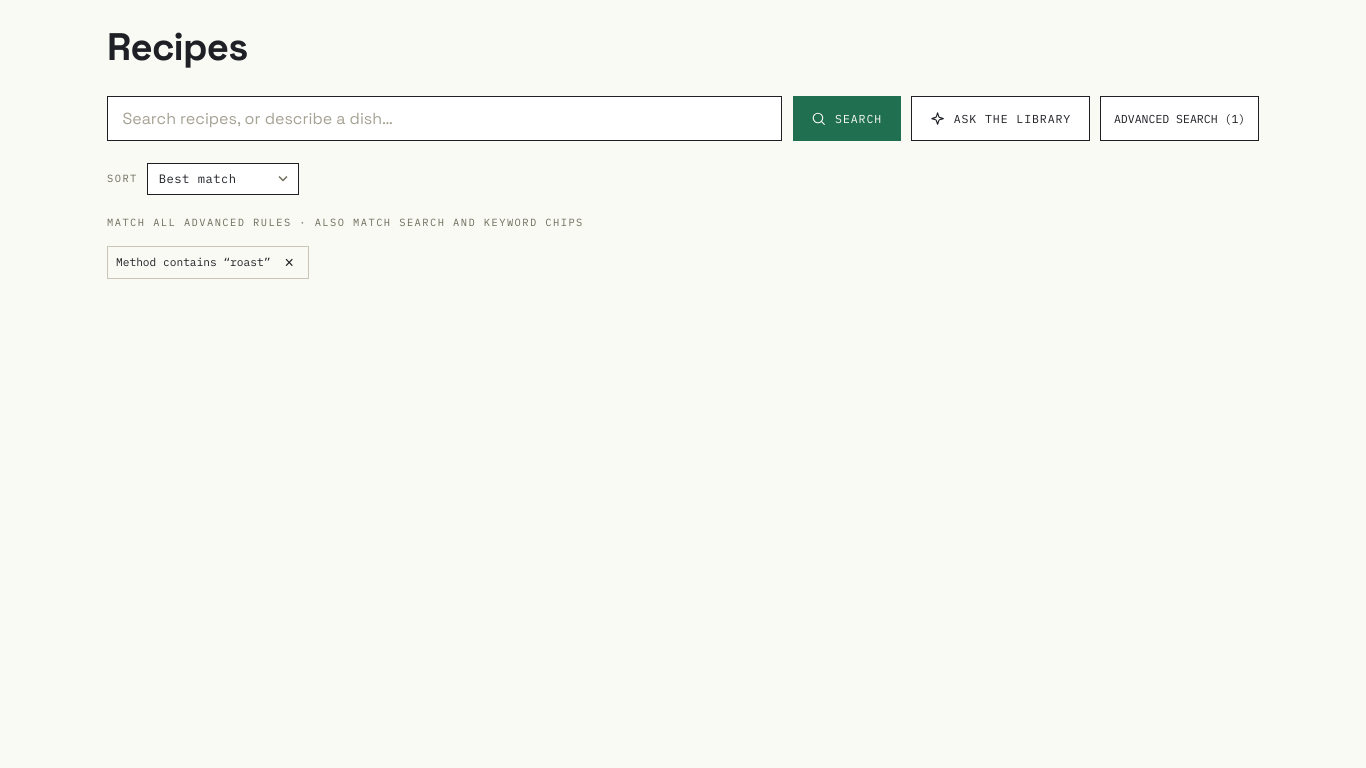
Test case: native dialog lifecycle › opens modally, discards a draft on backdrop dismissal, restores focus, and reopens
Click the button with class "advanced-trigger" at (1180, 118), box [1100, 96, 1259, 141]
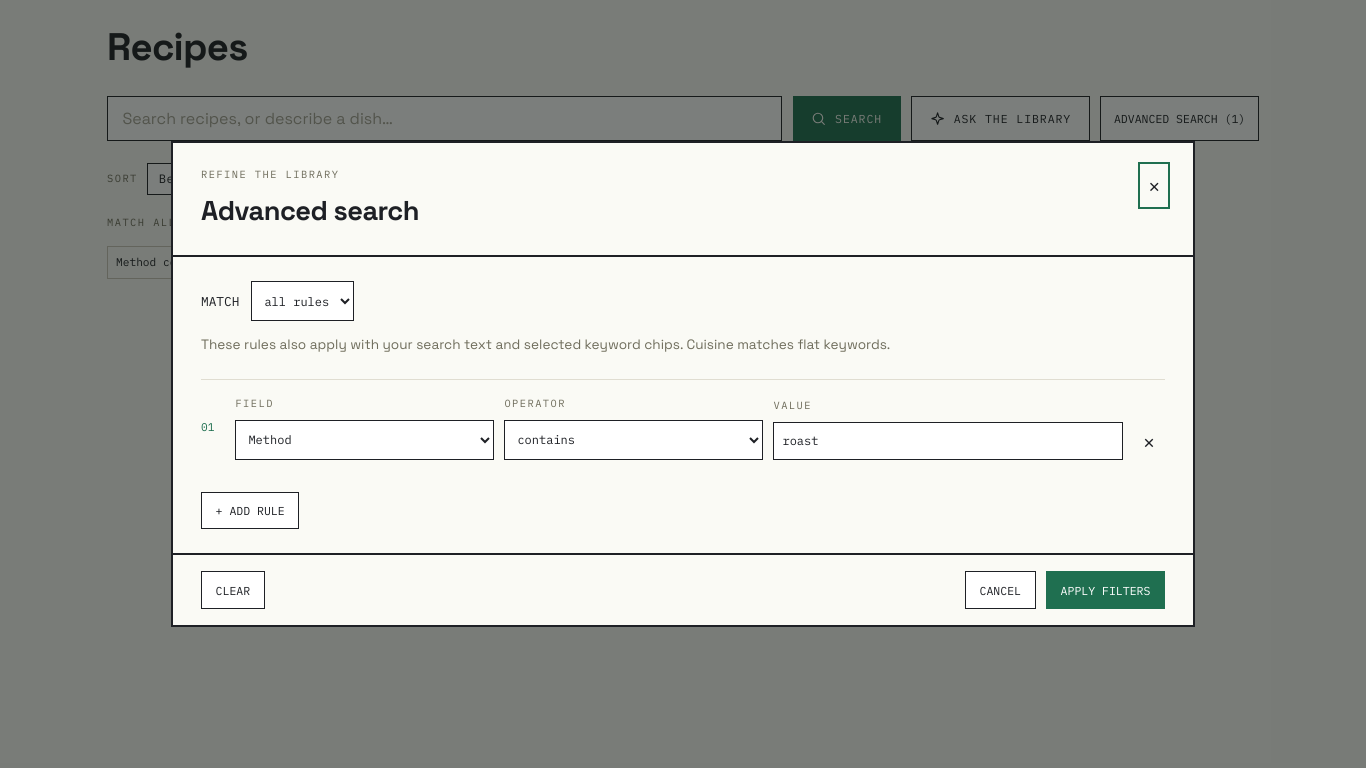
Replace the text in the field labelled "Value" with "braise" at (948, 441), box [773, 422, 1123, 460]
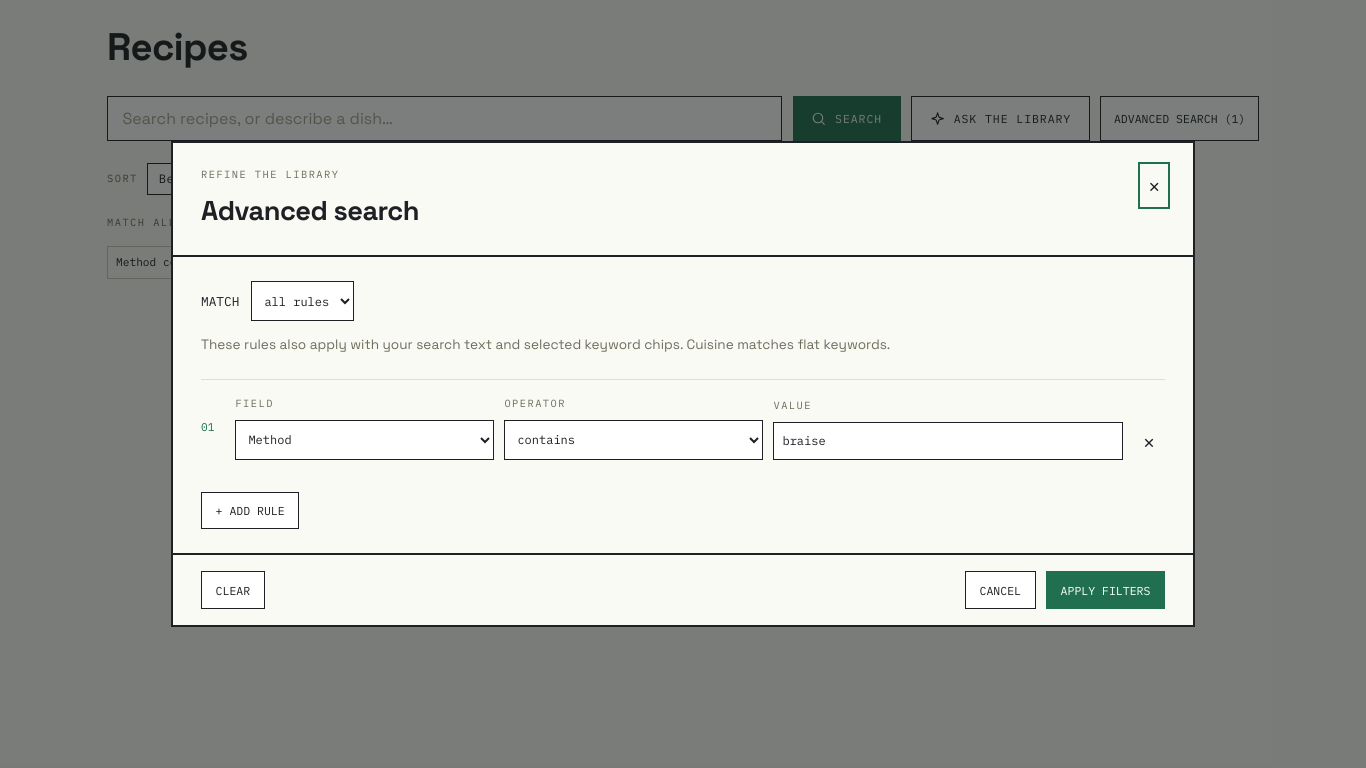
Click the dialog at (683, 384), box [171, 141, 1195, 627]
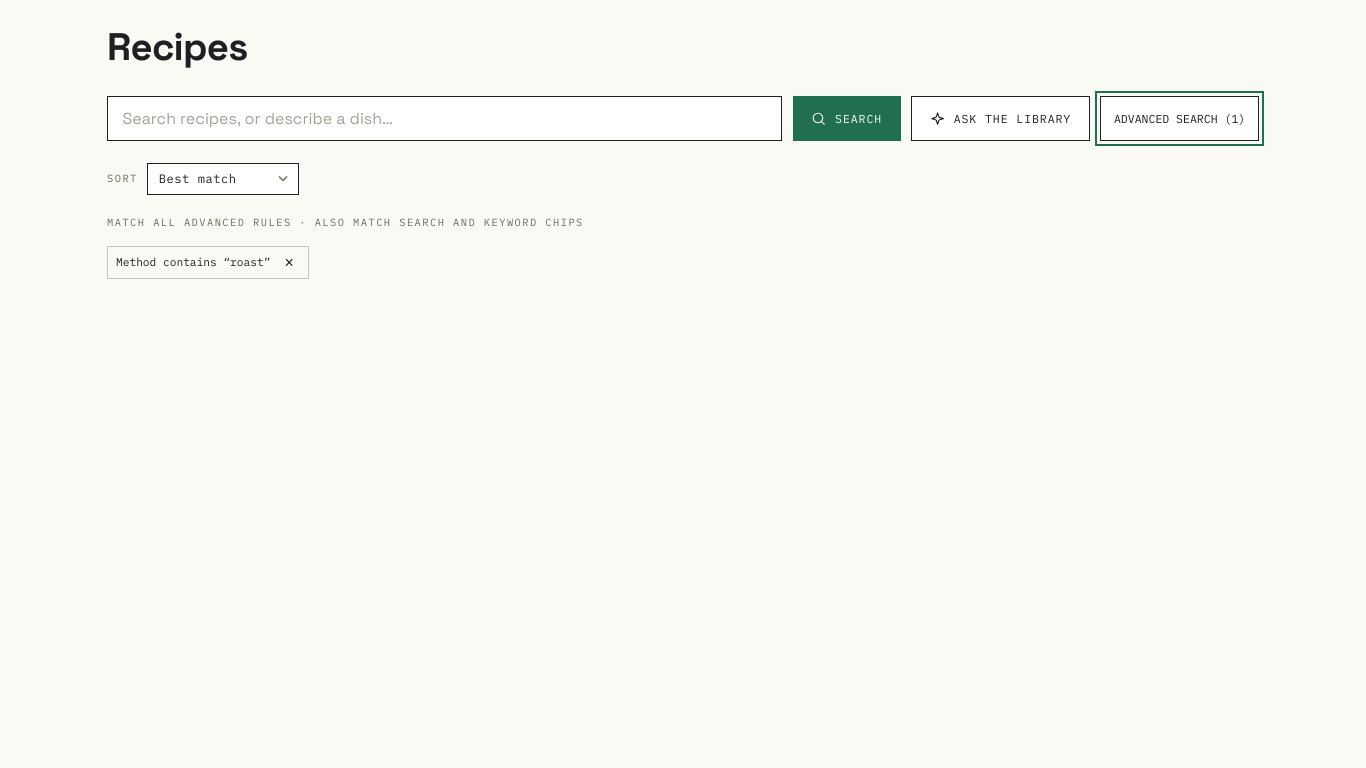
Now the dialog is gone
Click the button with class "advanced-trigger" at (1180, 118), box [1100, 96, 1259, 141]
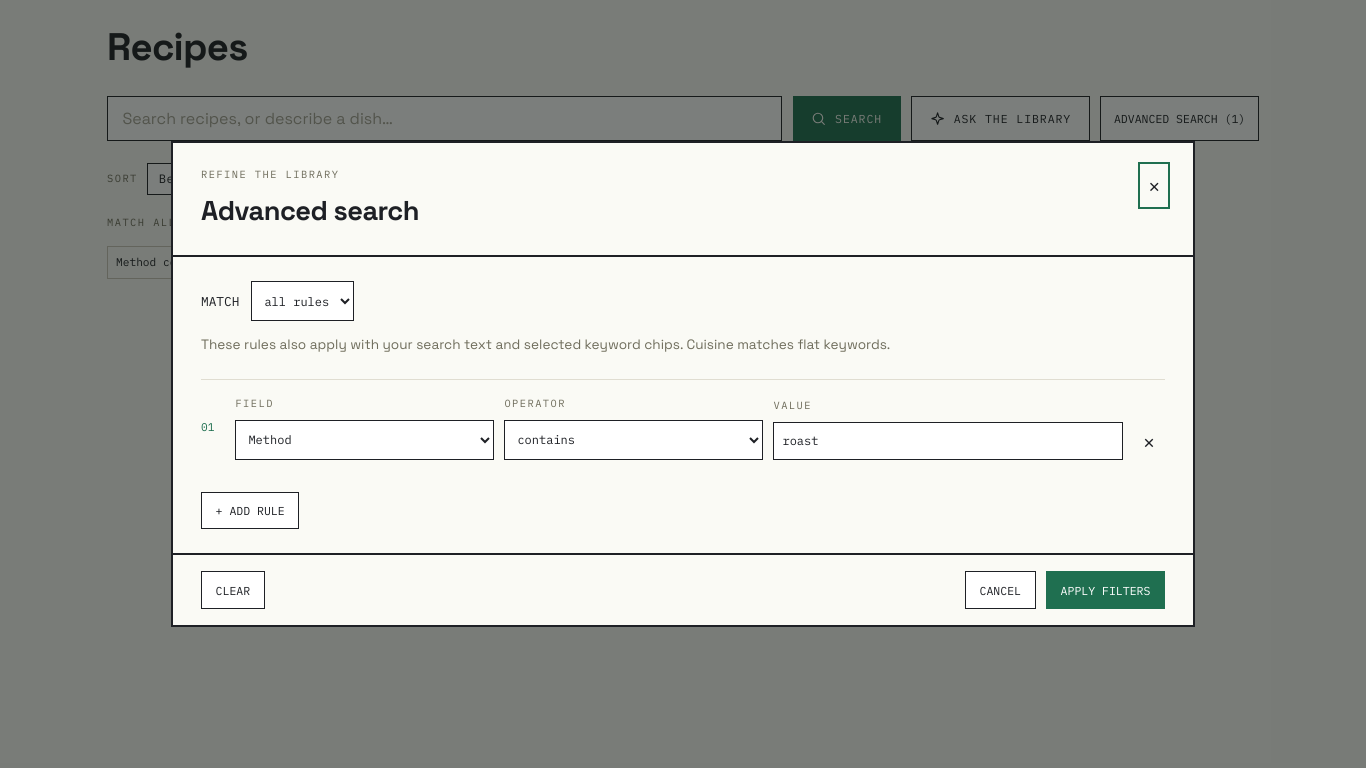
Now the field labelled "Value" holds "roast", box [773, 422, 1123, 460]
